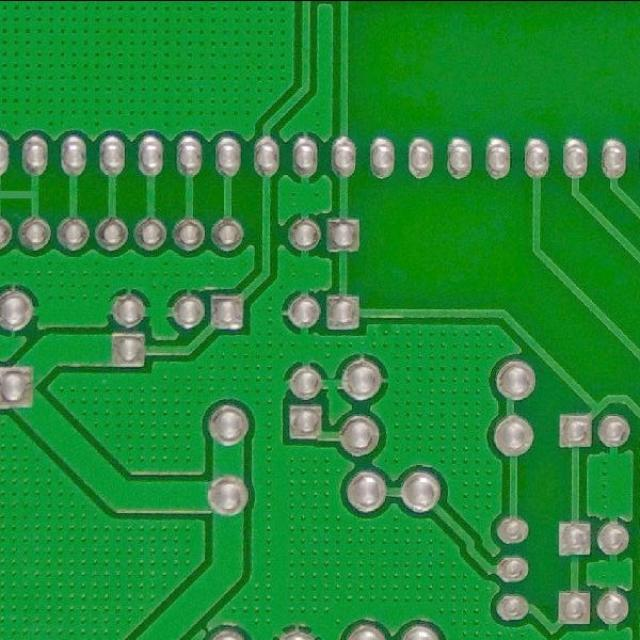Short_Circuit: (0, 177, 46, 209)
